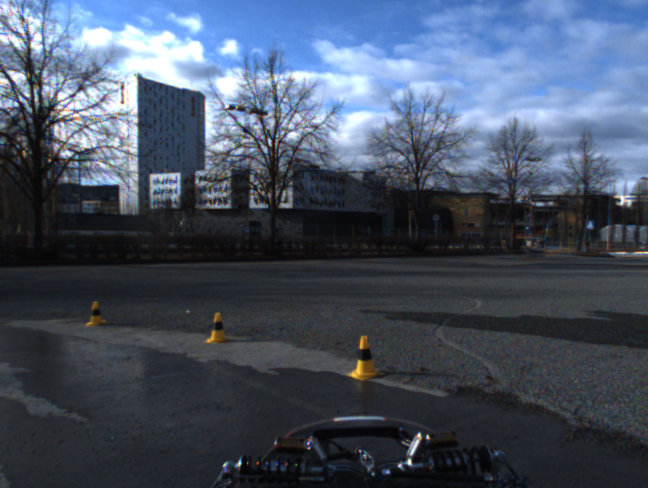cone-small-yellow: (347, 335, 385, 380), (203, 312, 231, 343), (83, 301, 108, 326)
